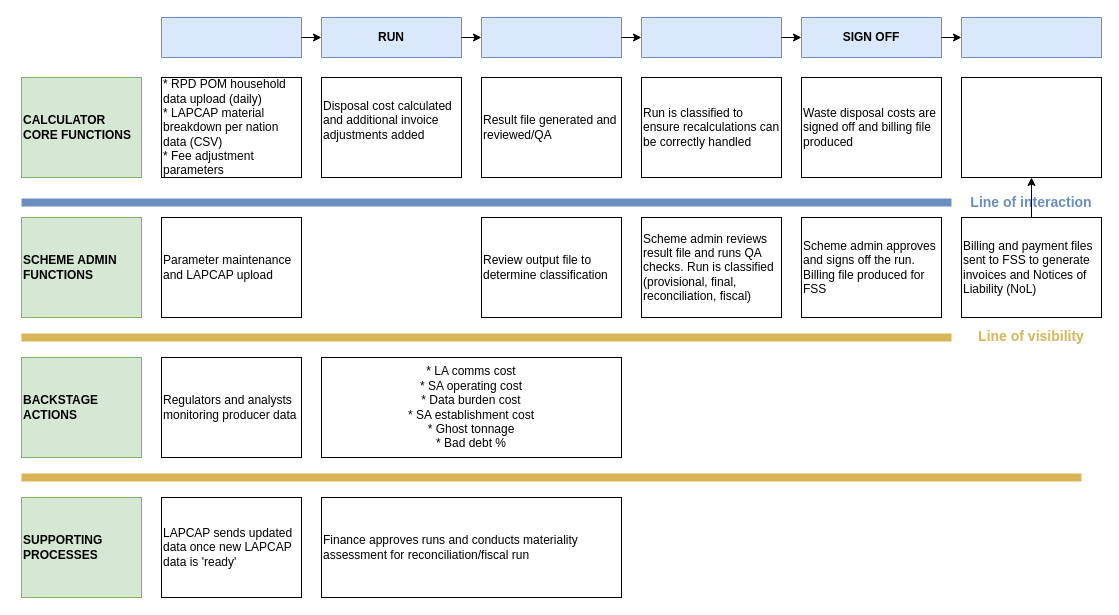
Image size: 1119x615. Some labels were removed from this diagram. The shapes that lost their labels are listed below. From the top down, each one's centre as x and y in pixels, then its label:
point (231, 37): DATA UPLOAD
point (551, 37): REVIEW
point (711, 37): CLASSIFICATION
point (1031, 37): NOL GENERATION
point (1031, 127): Producers access invoice details and make payment via FSS
